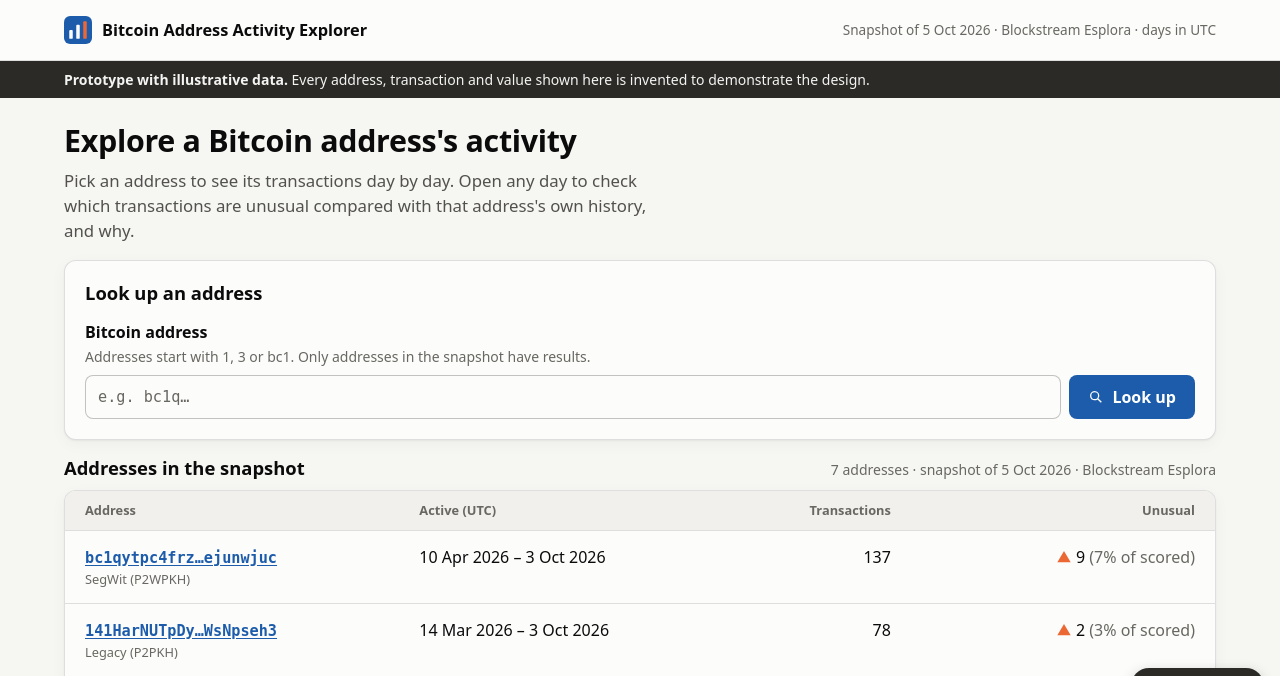
Test case: FR-05 states › invalid: a typo is caught in the browser and never sent to the API
In the field labelled "Bitcoin address": (573, 397) [85,375,1061,419], type "bc1qytpc4frzkxt0vwsnvt9kfcrers8k5pejunwjuq"
Then press Enter
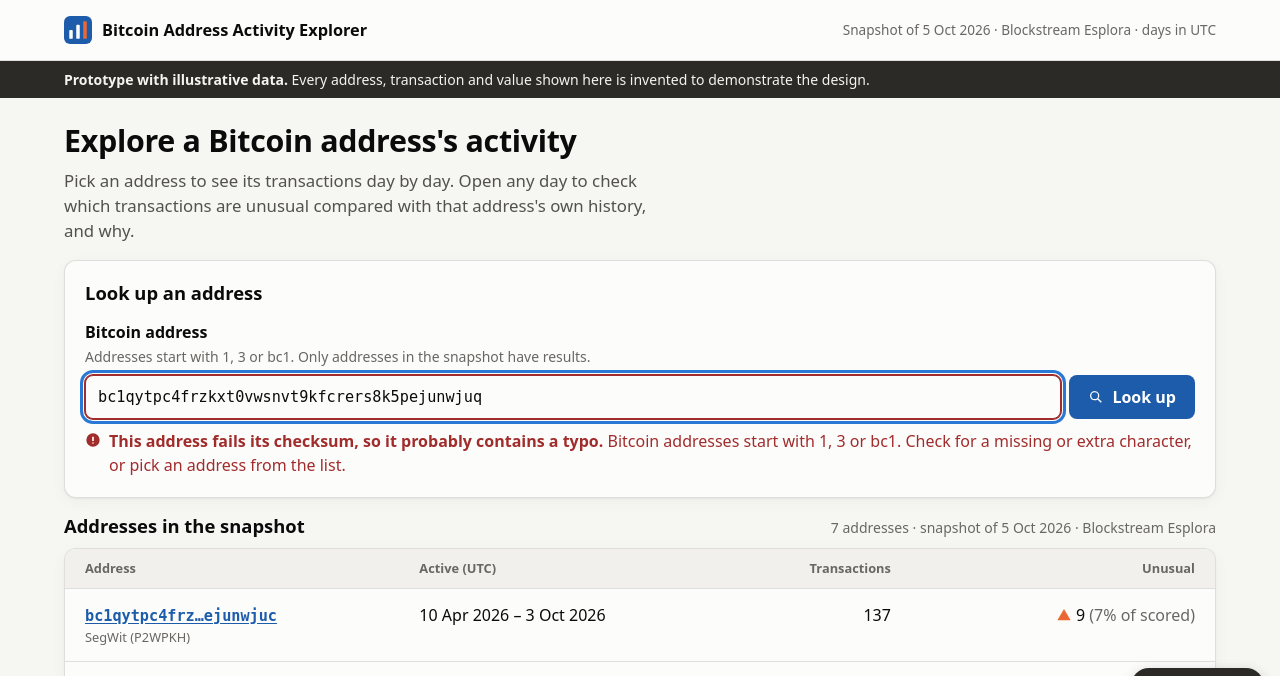
expect the message shows "fails its checksum": met, box [109,430,603,452]
